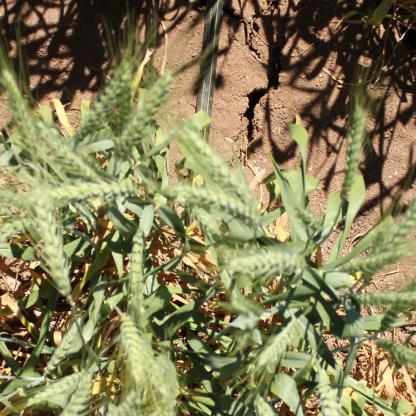whd: (115, 72, 172, 157), (184, 131, 248, 202), (360, 199, 416, 278), (78, 59, 132, 140), (36, 190, 73, 300), (36, 118, 98, 180), (175, 186, 261, 228), (2, 72, 36, 147), (189, 205, 232, 260), (342, 105, 366, 193), (45, 319, 82, 374), (50, 178, 138, 200), (120, 316, 148, 383), (380, 282, 416, 331), (259, 326, 303, 364), (343, 250, 410, 274), (362, 226, 388, 285), (232, 252, 306, 272), (31, 373, 83, 401), (60, 374, 93, 416), (144, 355, 169, 396), (375, 338, 416, 362), (354, 290, 416, 304), (108, 392, 142, 416), (131, 230, 144, 292), (319, 379, 339, 416), (1, 186, 28, 209), (1, 218, 33, 237), (236, 328, 262, 349), (296, 207, 320, 229), (233, 298, 263, 315), (83, 153, 104, 176), (152, 400, 174, 416), (256, 397, 274, 415), (128, 296, 145, 315), (294, 366, 312, 380), (248, 314, 261, 327), (0, 205, 12, 216), (305, 243, 316, 255)
